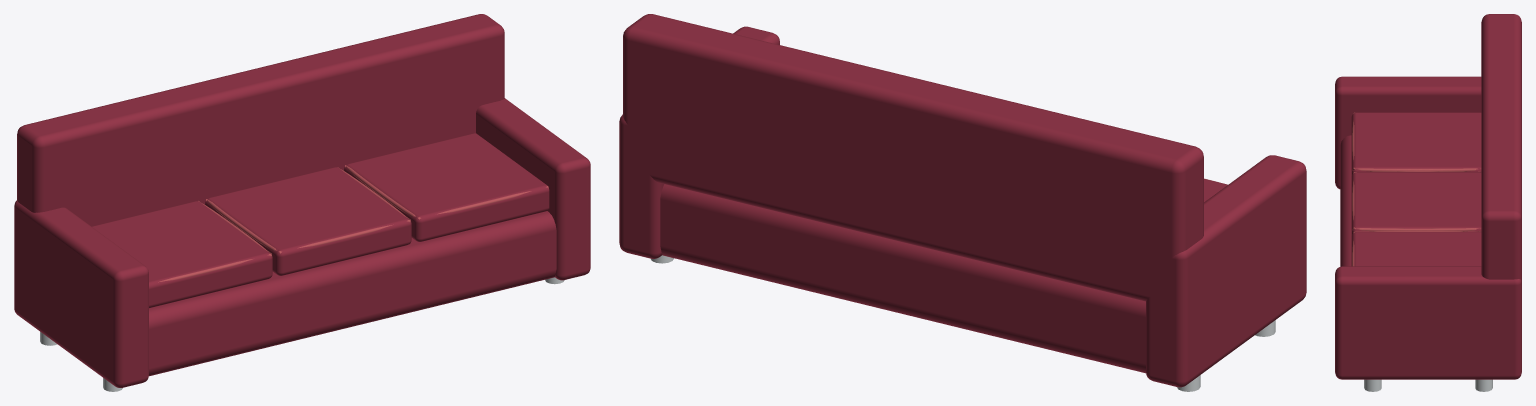
The model's file is spa.glb.
3 renders of one model, left to right at view 1: azimuth 30°, elevation 25°; view 2: azimuth 150°, elevation 25°; view 3: azimuth 270°, elevation 25°, orthographic. The views are drawn at different scales.
Visible parts, largest first — view 1: waiting-sofa; view 2: waiting-sofa; view 3: waiting-sofa.
Part boxes in pixels (x1,y1,x2,y2): waiting-sofa: (14,14,590,391); waiting-sofa: (619,14,1306,391); waiting-sofa: (1335,14,1521,391).
Bounding box in the file's own units: 1.92 × 0.7899 × 0.74.
